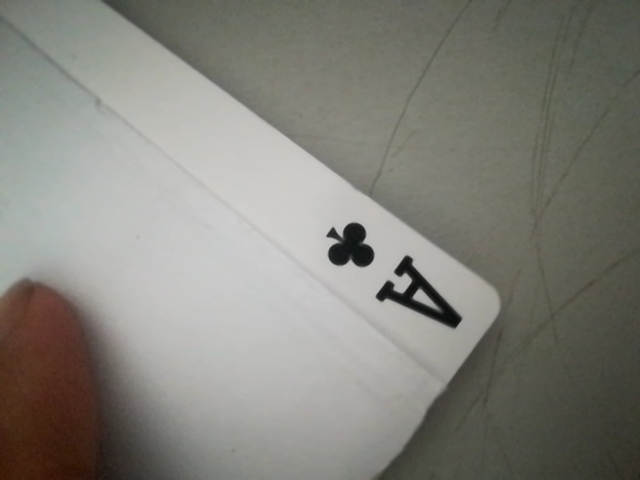mh a: (298, 214, 480, 340)
